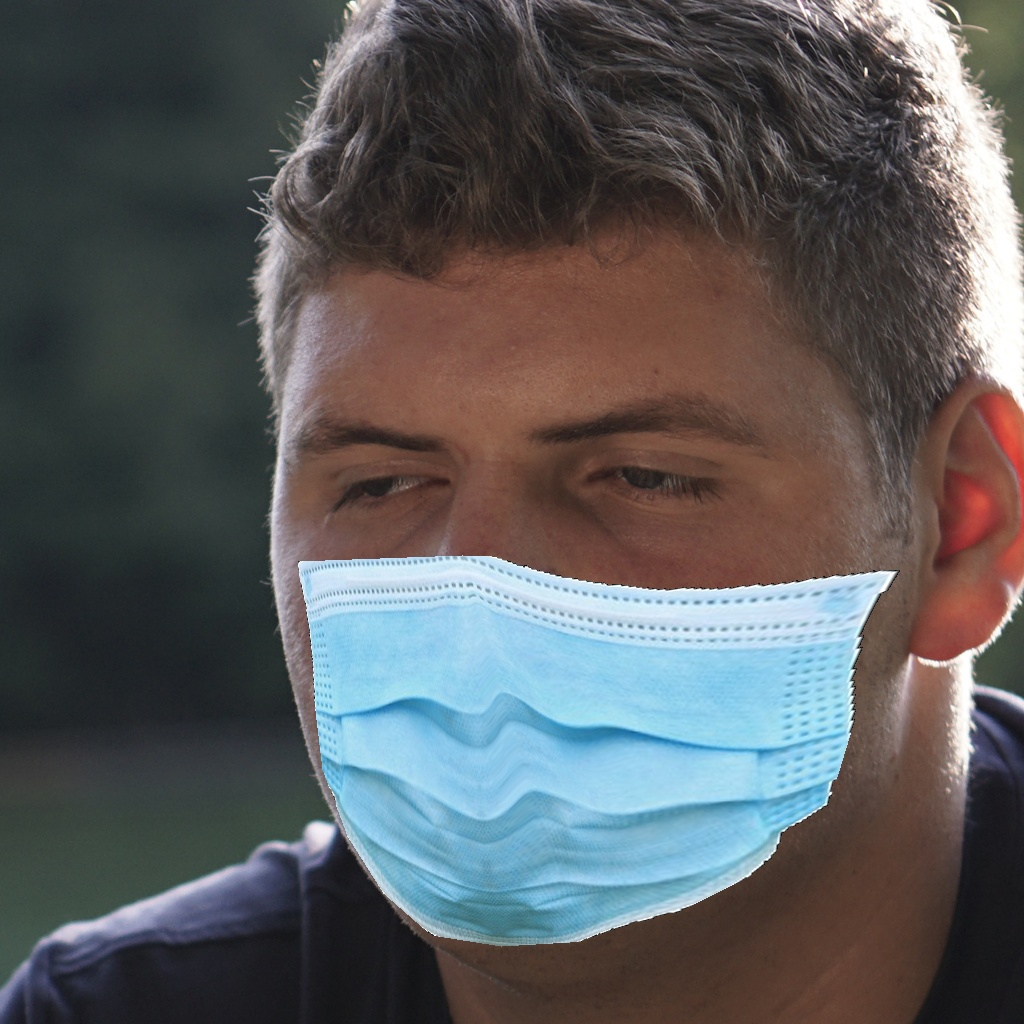Mask: (269, 367, 902, 953)
